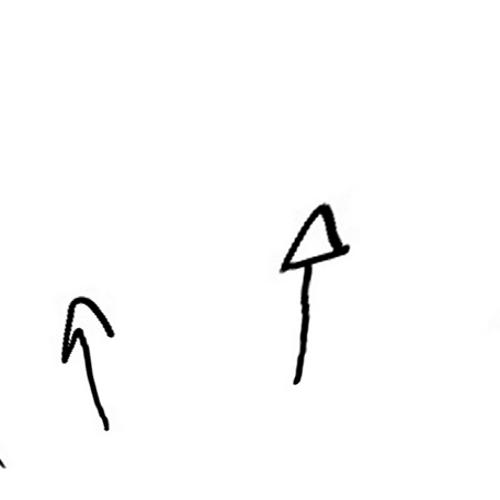arrow: (282, 197, 342, 385), (52, 295, 121, 432)
